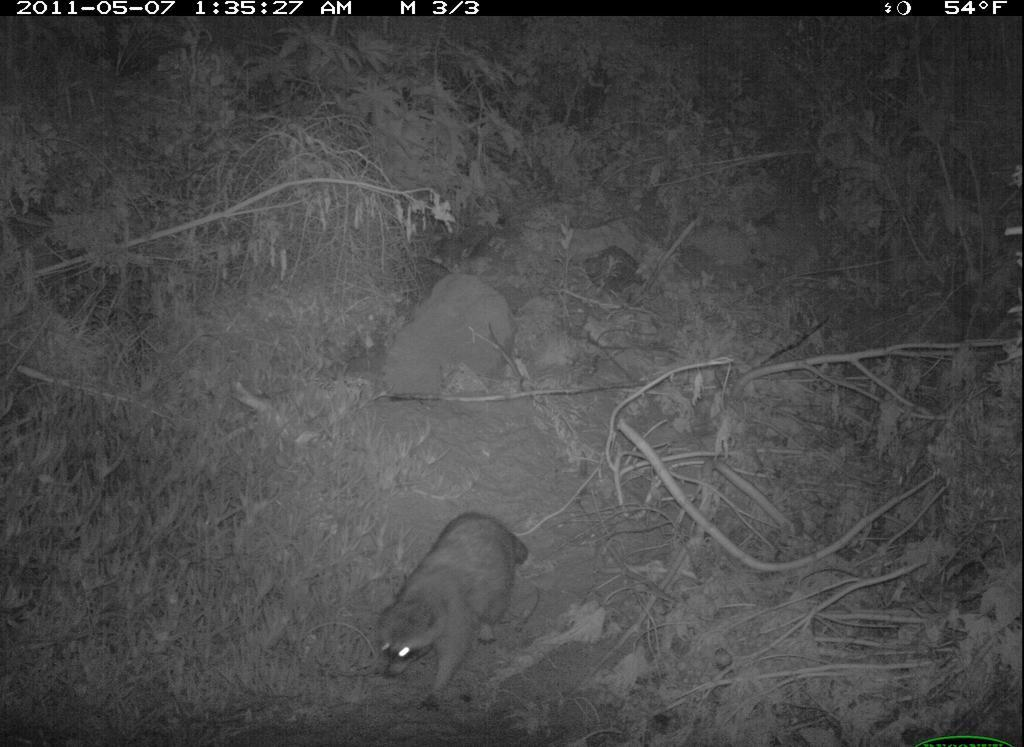raccoon: (359, 510, 546, 716)
